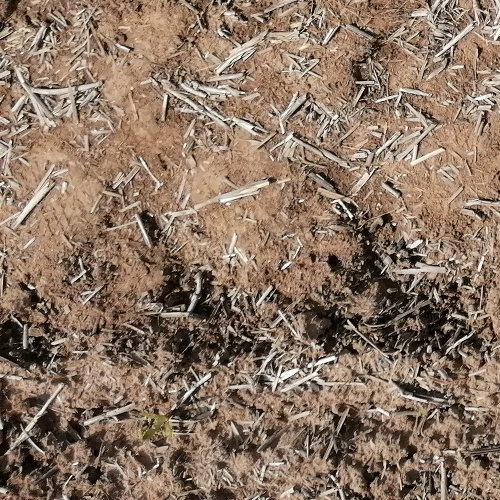beet: (141, 411, 172, 443)
